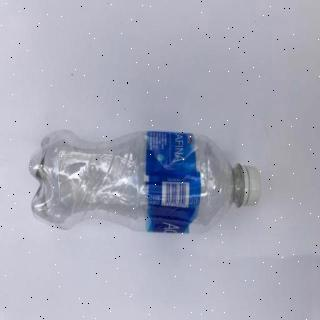Plastic-bottle: (30, 129, 262, 235)
